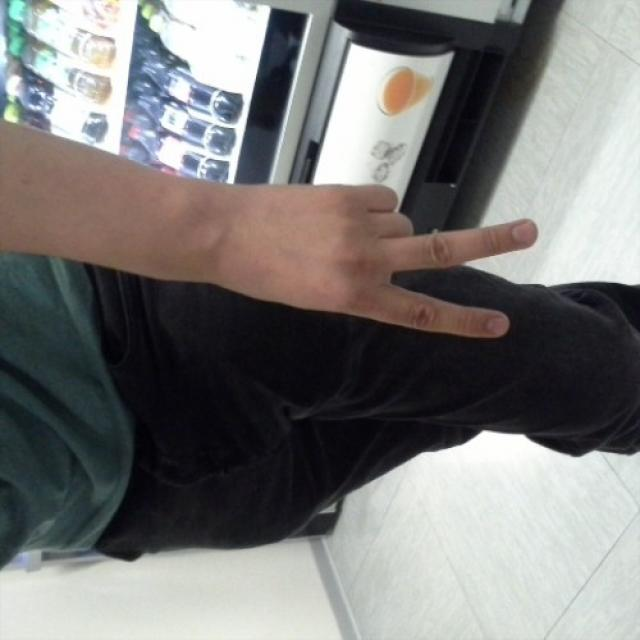scissors: (256, 182, 540, 340)
